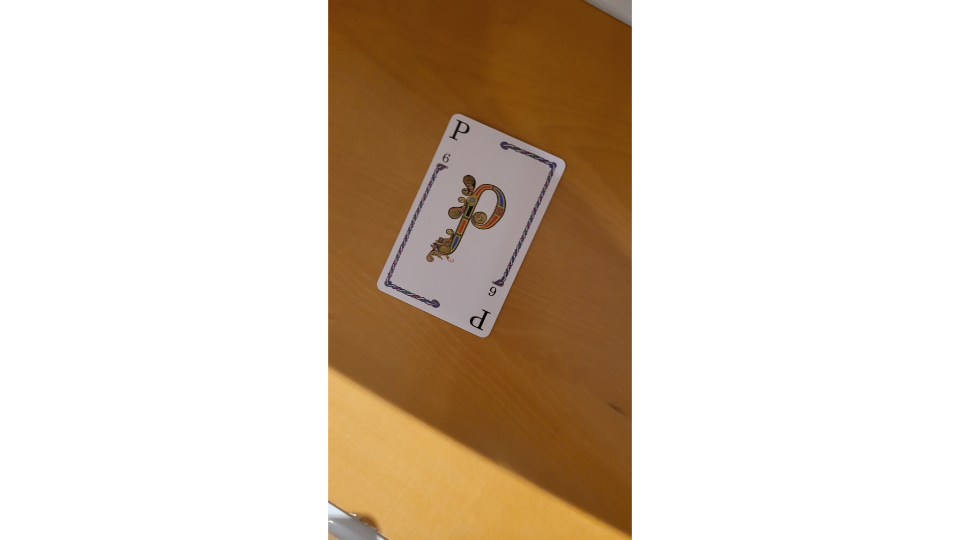P: (374, 109, 569, 341)
